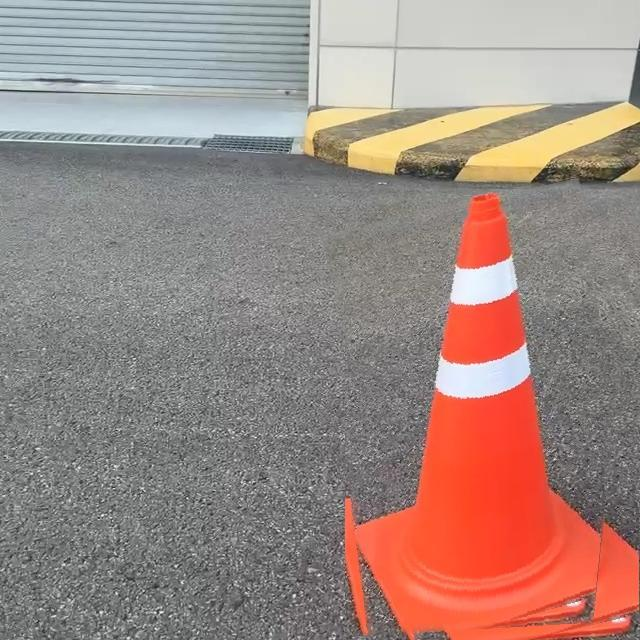fallen_object: (317, 119, 593, 640)
